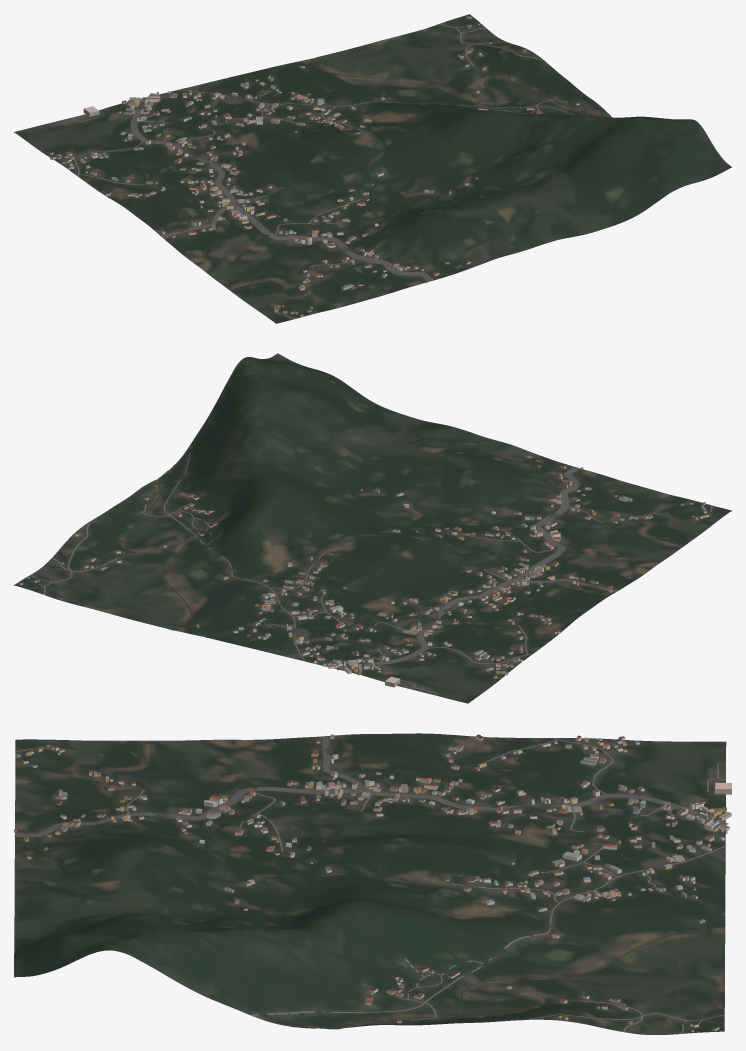
3 renders of one model, top to bottom at view 1: azimuth 30°, elevation 25°; view 2: azimuth 150°, elevation 25°; view 3: azimuth 270°, elevation 25°, orthographic. The views are drawn at different scales.
Parts seen in each view (by area): view 1: ground, buildings, roads; view 2: ground, buildings, roads; view 3: ground, buildings, roads, water.
Part boxes in pixels (bbox=[...]): ground: bbox=[14, 14, 731, 323]; buildings: bbox=[50, 15, 580, 316]; roads: bbox=[48, 23, 573, 318]; ground: bbox=[14, 353, 731, 703]; buildings: bbox=[18, 455, 709, 687]; roads: bbox=[30, 445, 712, 695]; ground: bbox=[14, 733, 726, 1034]; buildings: bbox=[14, 734, 731, 1032]; roads: bbox=[14, 735, 728, 1033]; water: bbox=[293, 933, 725, 1028].
Bounding box in the file's own units: 1406 × 200 × 1416.
